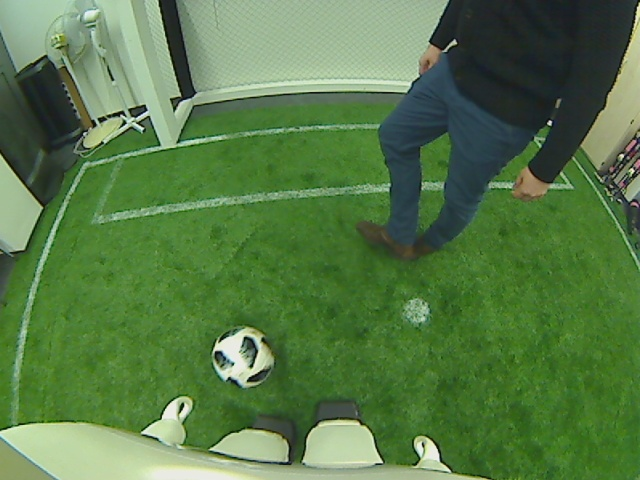ball: (208, 322, 273, 391)
